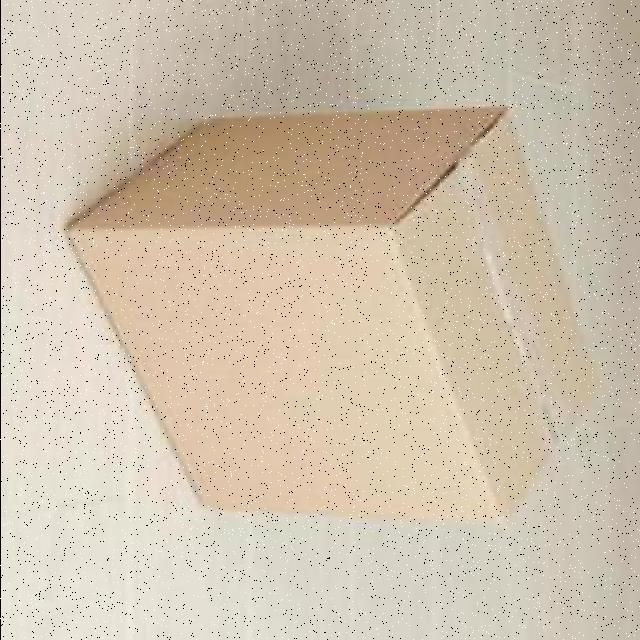normal: (61, 104, 604, 526)
